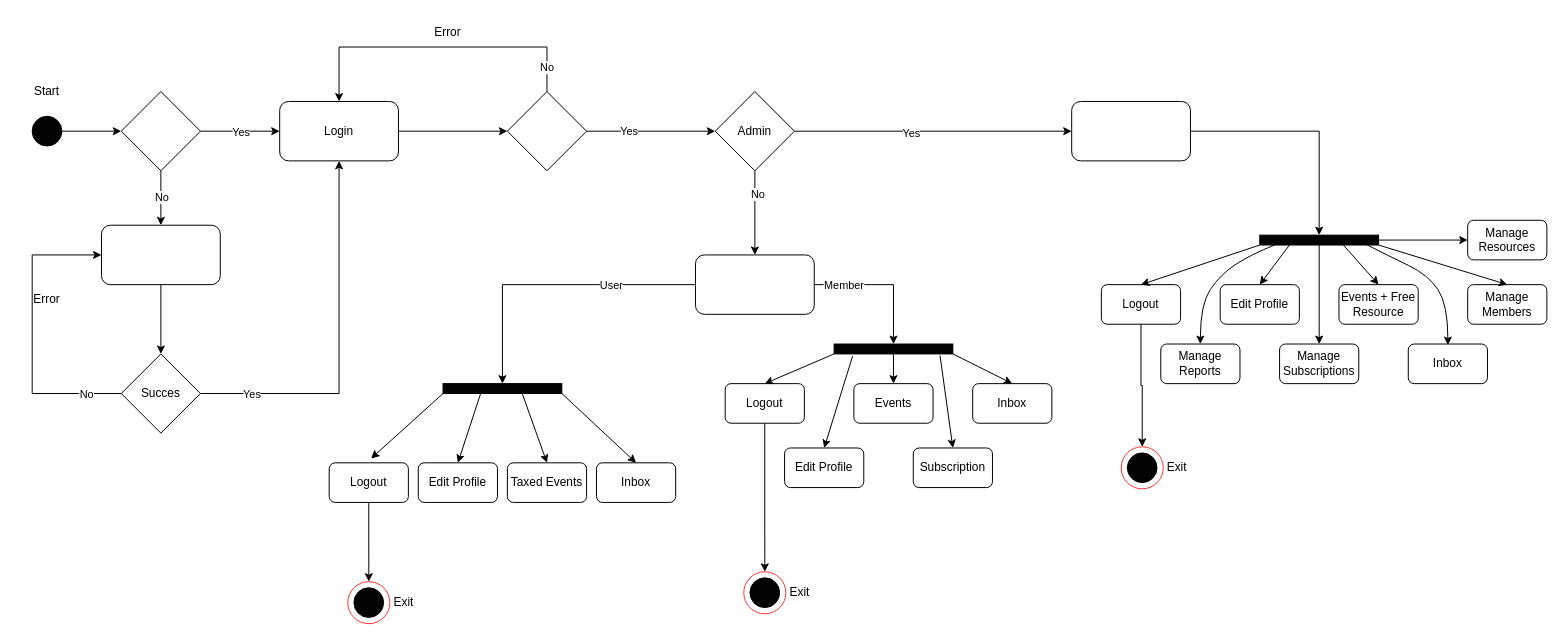
The diagram is 1564 pixels wide and 641 high, and some of its shapes have lost their labels. Each missing label, with the centre of its shape:
"Got Account" belongs at pixel 160 131.
"Open Admin UI" belongs at pixel 1130 130.
"Open Member/User UI" belongs at pixel 754 284.
"Register" belongs at pixel 160 254.
"Success" belongs at pixel 546 131.
